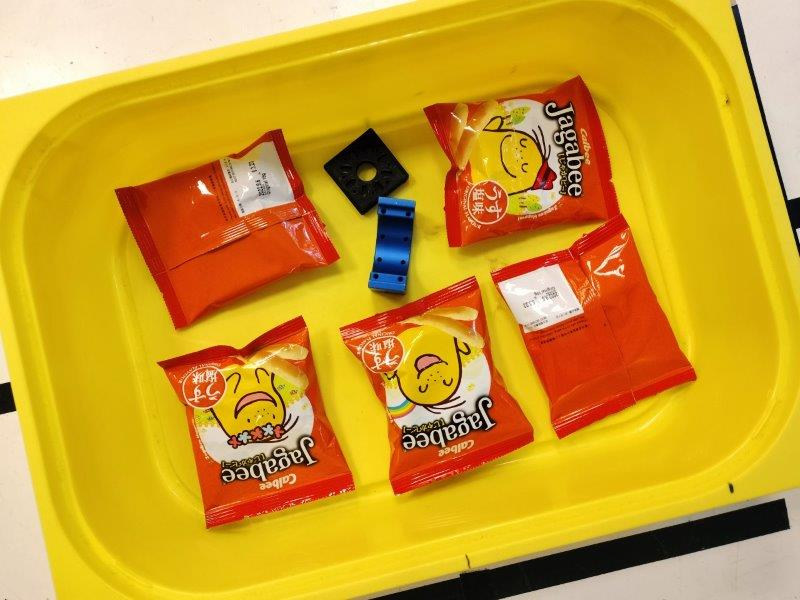Jagabee: (490, 216, 698, 439), (115, 130, 342, 330), (342, 277, 536, 495), (159, 316, 354, 530), (422, 77, 622, 248)
